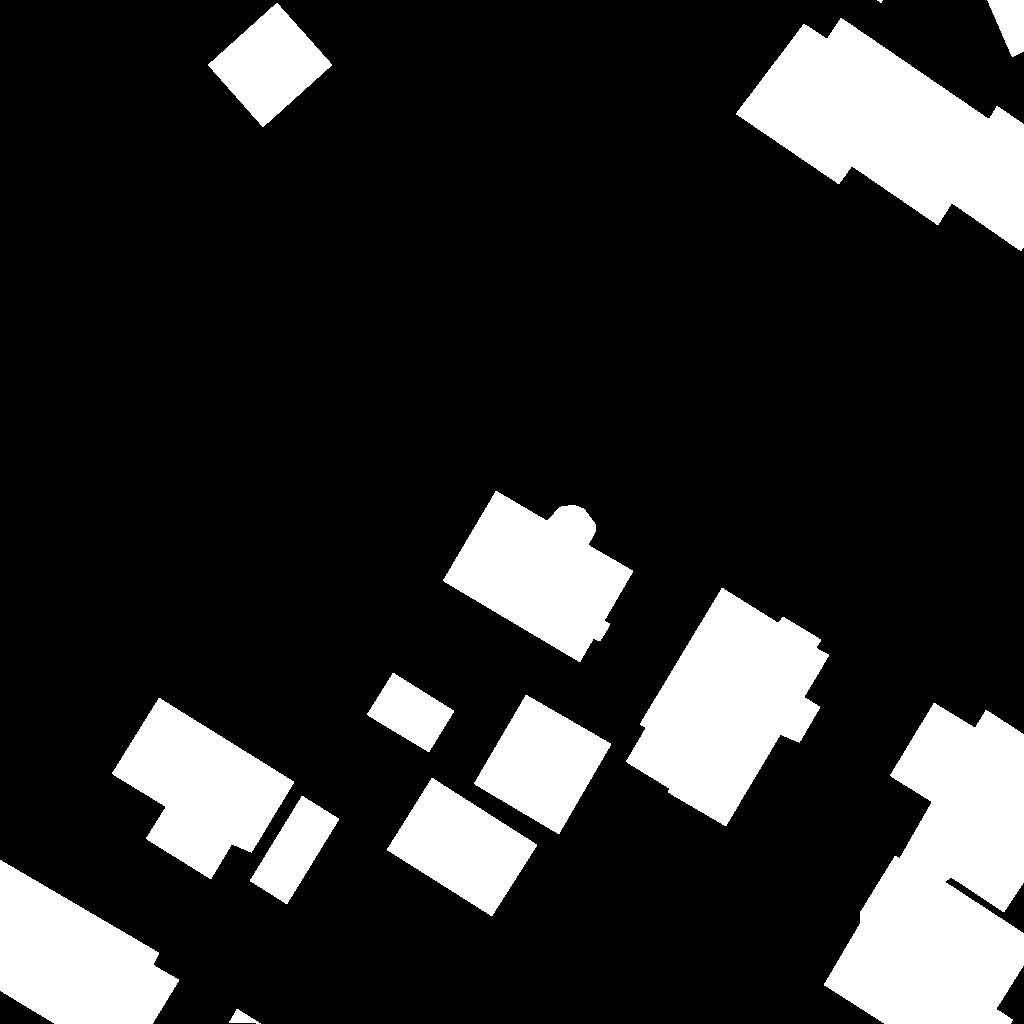building: (736, 18, 1024, 252), (626, 588, 830, 827), (824, 856, 1024, 1024), (112, 698, 295, 880), (443, 491, 634, 663), (0, 860, 180, 1024), (890, 703, 1024, 913), (387, 778, 538, 917), (474, 695, 612, 835), (208, 3, 333, 128), (250, 796, 340, 905), (367, 673, 455, 753), (987, 0, 1024, 58), (229, 1009, 262, 1024), (877, 0, 884, 4)
